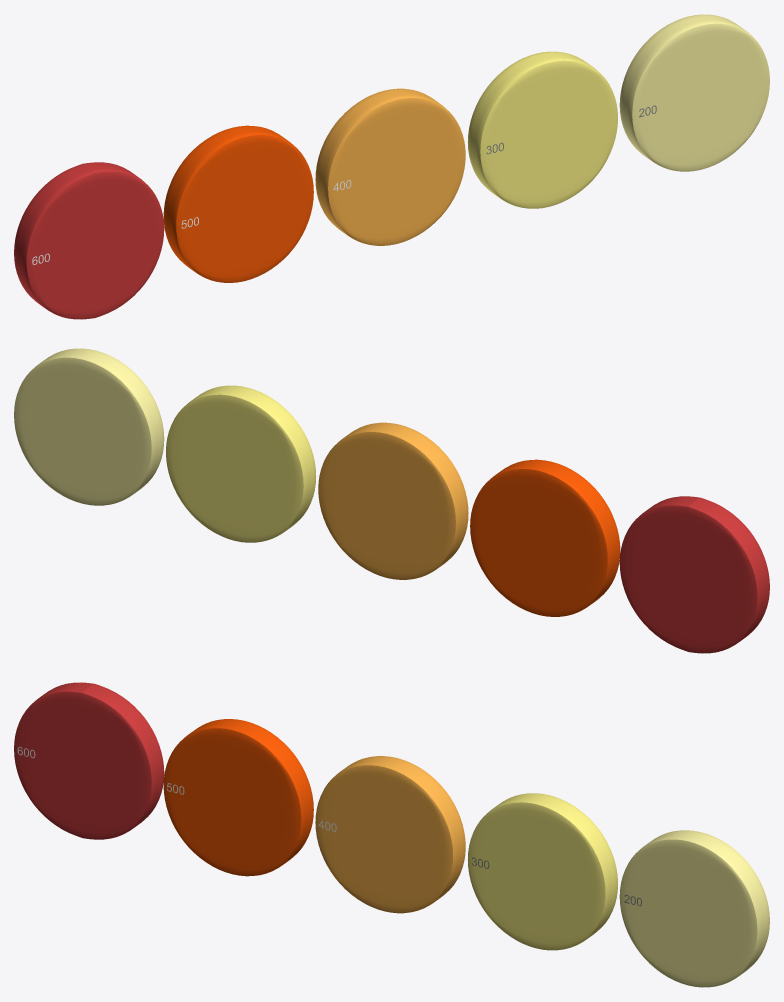
The model's file is branding-transformed.glb.
The picture shows the model from 3 angles, top to bottom: view 1: azimuth 30°, elevation 25°; view 2: azimuth 150°, elevation 25°; view 3: azimuth 330°, elevation 25°; orthographic projection.
Parts seen in each view (by area): view 1: Cylinder1, Cylinder5, Cylinder4, Cylinder3, Cylinder2; view 2: Cylinder1, Cylinder3, Cylinder5, Cylinder4, Cylinder2; view 3: Cylinder3, Cylinder1, Cylinder5, Cylinder2, Cylinder4.
Part boxes in pixels (x1,y1,x2,y2): Cylinder1: (14, 162, 164, 319); Cylinder5: (619, 14, 769, 171); Cylinder4: (467, 51, 617, 208); Cylinder3: (315, 88, 465, 245); Cylinder2: (163, 125, 313, 282); Cylinder1: (619, 496, 769, 653); Cylinder3: (318, 422, 468, 579); Cylinder5: (14, 348, 164, 505); Cylinder4: (166, 385, 316, 542); Cylinder2: (470, 459, 620, 616); Cylinder3: (315, 756, 465, 913); Cylinder1: (14, 682, 164, 839); Cylinder5: (619, 830, 769, 987); Cylinder2: (163, 719, 313, 876); Cylinder4: (467, 793, 617, 950).
Bounding box in the file's own units: 2.8 × 0.5272 × 0.092.
Materials: 3 (3 with a texture image).
